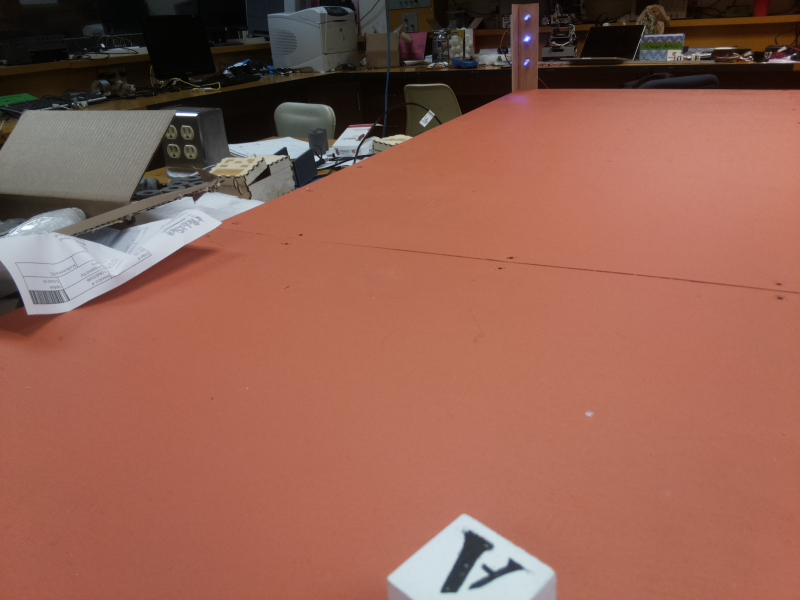blockA: (385, 511, 559, 600)
corner: (510, 7, 546, 90)
